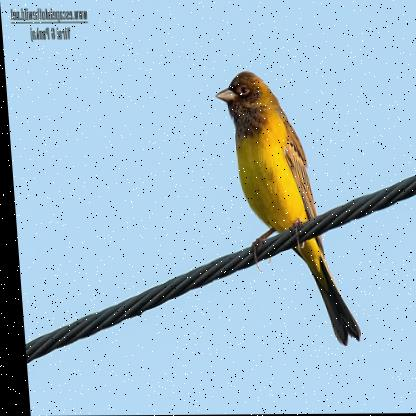Burung: (214, 71, 355, 345)
